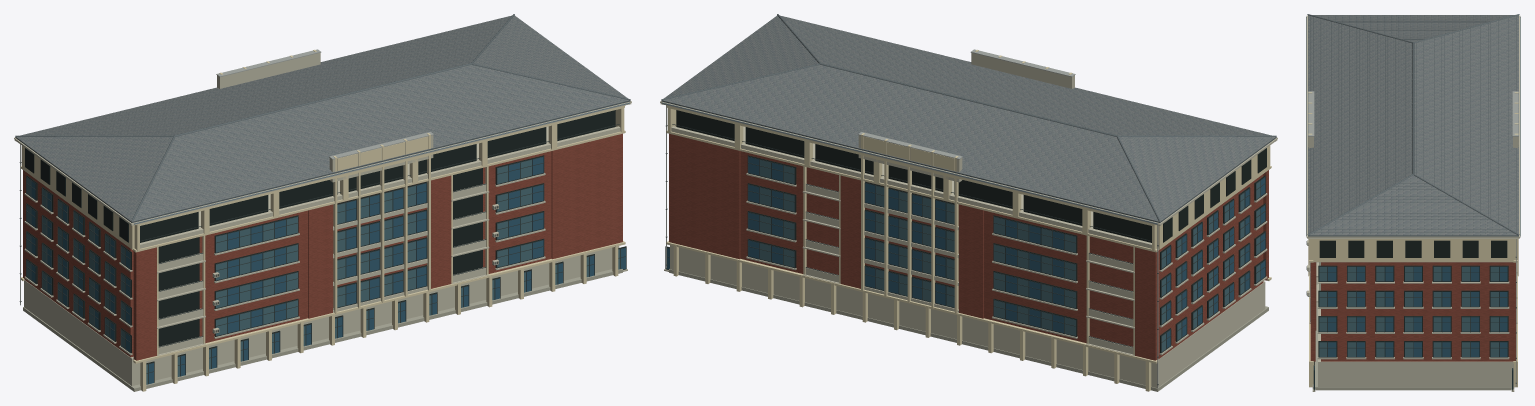
The picture shows the model from 3 angles, left to right: view 1: azimuth 30°, elevation 25°; view 2: azimuth 150°, elevation 25°; view 3: azimuth 270°, elevation 25°; orthographic projection. The views are drawn at different scales.
Parts seen in each view (by area): view 1: TeachingFacade_PhotoLowPitchedRoof_ClippedTileField_3, TeachingFacade_BroadSolidBrickPiers, TeachingFacade_PhotoLowPitchedRoof_ClippedTileField_1, TeachingFacade_PaleStoneGroundBody, TeachingFacade_ProjectingClassroomBrickField, TeachingFacade_SetBackBrickCore, TeachingFacade_AtticDeepOpenCorridor, TeachingFacade_PhotoLowPitchedRoof_ClippedTileField_4, TeachingFacade_CentralStair_GlassPane, TeachingFacade_ClassroomZone2_GlassPane, TeachingFacade_DeepLoggiaRearShadow, TeachingFacade_PhotoLowPitchedRoof_ClippedTileField_2 (+40 smaller); view 2: TeachingFacade_PhotoLowPitchedRoof_ClippedTileField_1, TeachingFacade_BroadSolidBrickPiers, TeachingFacade_PhotoLowPitchedRoof_ClippedTileField_3, TeachingFacade_PaleStoneGroundBody, TeachingFacade_SetBackBrickCore, TeachingFacade_ProjectingClassroomBrickField, TeachingFacade_AtticDeepOpenCorridor, TeachingFacade_PhotoLowPitchedRoof_ClippedTileField_4, TeachingFacade_CentralStair_GlassPane, TeachingFacade_ClassroomZone2_GlassPane, TeachingFacade_PhotoLowPitchedRoof_ClippedTileField_2, TeachingFacade_SideRoom_GlassPane (+37 smaller); view 3: TeachingFacade_PhotoLowPitchedRoof_ClippedTileField_3, TeachingFacade_PhotoLowPitchedRoof_ClippedTileField_1, TeachingFacade_SetBackBrickCore, TeachingFacade_SideRoom_GlassPane, TeachingFacade_PhotoLowPitchedRoof_ClippedTileField_2, TeachingFacade_PhotoLowPitchedRoof_ThinOverlappingTileCourse, TeachingFacade_PaleStoneGroundBody, TeachingFacade_PhotoLowPitchedRoof_ClippedTileField_4, TeachingFacade_UpperSideIvoryWall, TeachingFacade_SideRoom_RecessShadow, TeachingFacade_SideAtticDarkOpenings, TeachingFacade_SideRoom_DarkWindowTransom (+17 smaller).
Boxes of the visible parts, box(x1,y1,x2,y2) form: TeachingFacade_PhotoLowPitchedRoof_ClippedTileField_3: box(132, 65, 628, 221); TeachingFacade_BroadSolidBrickPiers: box(23, 133, 622, 360); TeachingFacade_PhotoLowPitchedRoof_ClippedTileField_1: box(20, 15, 511, 135); TeachingFacade_PaleStoneGroundBody: box(24, 246, 619, 385); TeachingFacade_ProjectingClassroomBrickField: box(205, 151, 551, 343); TeachingFacade_SetBackBrickCore: box(24, 167, 485, 357); TeachingFacade_AtticDeepOpenCorridor: box(140, 110, 615, 242); TeachingFacade_PhotoLowPitchedRoof_ClippedTileField_4: box(16, 137, 173, 221); TeachingFacade_CentralStair_GlassPane: box(337, 183, 426, 307); TeachingFacade_ClassroomZone2_GlassPane: box(216, 217, 297, 335); TeachingFacade_DeepLoggiaRearShadow: box(158, 168, 482, 346); TeachingFacade_PhotoLowPitchedRoof_ClippedTileField_2: box(473, 15, 627, 98); TeachingFacade_PhotoLowPitchedRoof_ClippedTileField_1: box(663, 65, 1159, 221); TeachingFacade_BroadSolidBrickPiers: box(669, 133, 1268, 360); TeachingFacade_PhotoLowPitchedRoof_ClippedTileField_3: box(780, 15, 1271, 135); TeachingFacade_PaleStoneGroundBody: box(670, 245, 1265, 387); TeachingFacade_SetBackBrickCore: box(806, 167, 1263, 359); TeachingFacade_ProjectingClassroomBrickField: box(740, 151, 1086, 343); TeachingFacade_AtticDeepOpenCorridor: box(676, 110, 1151, 242); TeachingFacade_PhotoLowPitchedRoof_ClippedTileField_4: box(1118, 137, 1275, 221); TeachingFacade_CentralStair_GlassPane: box(865, 183, 954, 307); TeachingFacade_ClassroomZone2_GlassPane: box(994, 217, 1075, 335); TeachingFacade_PhotoLowPitchedRoof_ClippedTileField_2: box(664, 15, 818, 98); TeachingFacade_SideRoom_GlassPane: box(1161, 177, 1265, 351); TeachingFacade_PhotoLowPitchedRoof_ClippedTileField_3: box(1308, 15, 1412, 234); TeachingFacade_PhotoLowPitchedRoof_ClippedTileField_1: box(1414, 15, 1518, 234); TeachingFacade_SetBackBrickCore: box(1321, 262, 1513, 361); TeachingFacade_SideRoom_GlassPane: box(1319, 267, 1507, 356); TeachingFacade_PhotoLowPitchedRoof_ClippedTileField_2: box(1309, 175, 1517, 235); TeachingFacade_PhotoLowPitchedRoof_ThinOverlappingTileCourse: box(1310, 16, 1516, 232); TeachingFacade_PaleStoneGroundBody: box(1318, 277, 1513, 386); TeachingFacade_PhotoLowPitchedRoof_ClippedTileField_4: box(1313, 15, 1513, 42); TeachingFacade_UpperSideIvoryWall: box(1313, 239, 1513, 261); TeachingFacade_SideRoom_RecessShadow: box(1318, 265, 1508, 357); TeachingFacade_SideAtticDarkOpenings: box(1319, 240, 1507, 257); TeachingFacade_SideRoom_DarkWindowTransom: box(1319, 266, 1507, 357).
Bounding box in the file's own units: 68.83 × 25.25 × 28.19.
15 materials, 1 textured.
